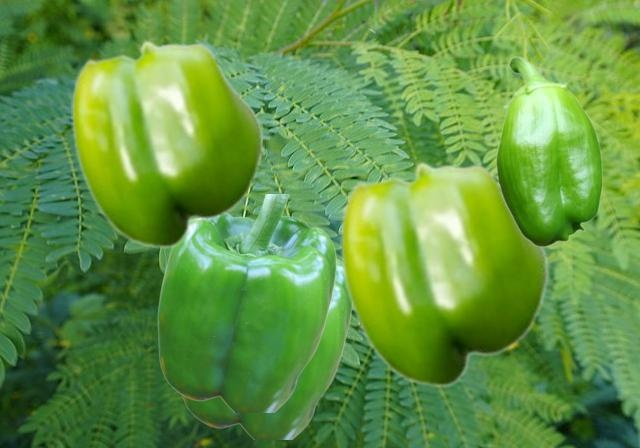bell_pepper: (340, 161, 548, 387), (71, 40, 263, 248), (157, 194, 335, 411), (181, 258, 352, 438), (495, 56, 602, 246)
